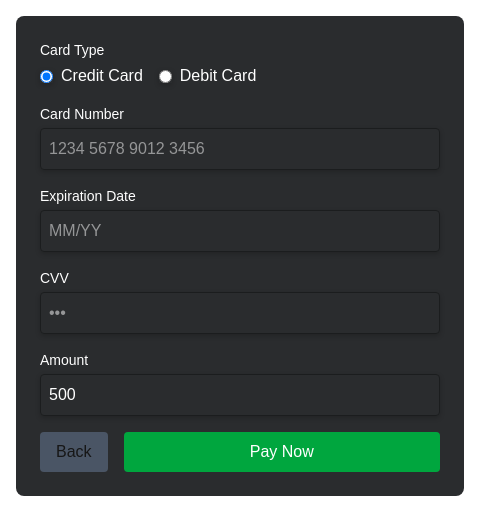
it: Payment Component › validates and formats expiration date
Type "1225" into the field with placeholder "MM/YY" at (240,231), box [40,210,440,252]
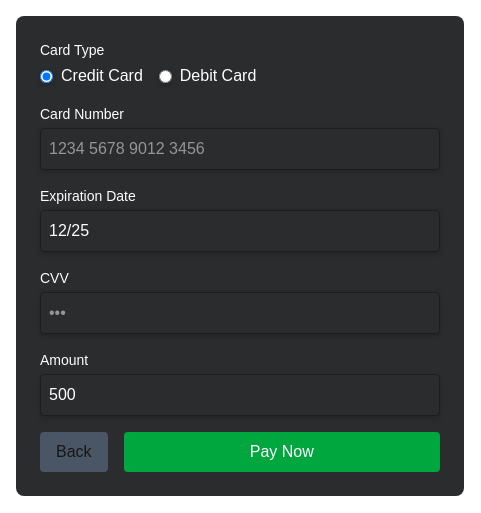
Result: the field with placeholder "MM/YY" holds "12/25" at [40,210,440,252]
